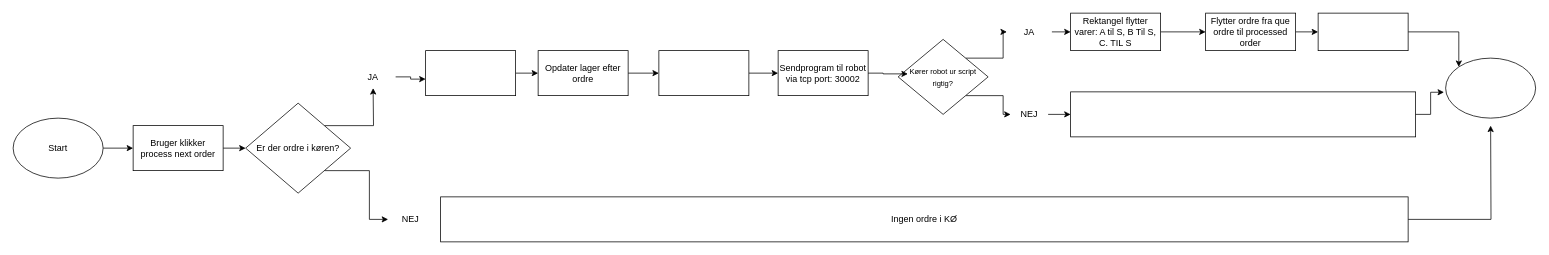
Some shapes in this 1549 by 255 pixel diagram are drawn without their labels. Here are the shapes that lost their labels. From the top down, the box of each, then its label:
(1317, 12, 1408, 51): opdatere total revenue I gui samt processed order
(425, 50, 516, 96): Hent første ordre fra køen
(658, 50, 749, 96): Generer urscript til robotten A til S, B Til S, C. TIL S
(1445, 57, 1536, 118): SLUT
(1070, 91, 1416, 137): Robot forbindelse fejlede
